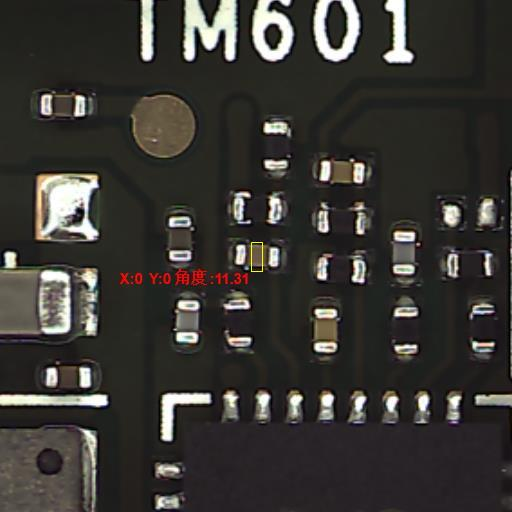bottom_layer: (1, 268, 98, 340), (37, 360, 102, 393), (390, 219, 420, 286), (310, 297, 341, 361), (469, 295, 499, 361), (164, 206, 195, 268), (262, 114, 292, 178), (30, 91, 98, 119), (223, 291, 253, 354), (225, 193, 288, 222), (174, 291, 203, 353), (441, 249, 498, 279), (392, 296, 418, 360), (312, 158, 372, 184), (312, 207, 372, 231)
top_layer: (1, 270, 74, 333), (262, 121, 290, 169), (225, 299, 252, 346), (471, 303, 497, 349), (446, 251, 493, 276), (168, 215, 193, 261), (316, 209, 365, 232), (44, 366, 92, 389), (394, 307, 418, 353), (232, 197, 282, 219), (314, 306, 338, 351), (39, 94, 85, 117), (392, 230, 416, 274), (320, 159, 365, 182), (175, 300, 199, 343)
